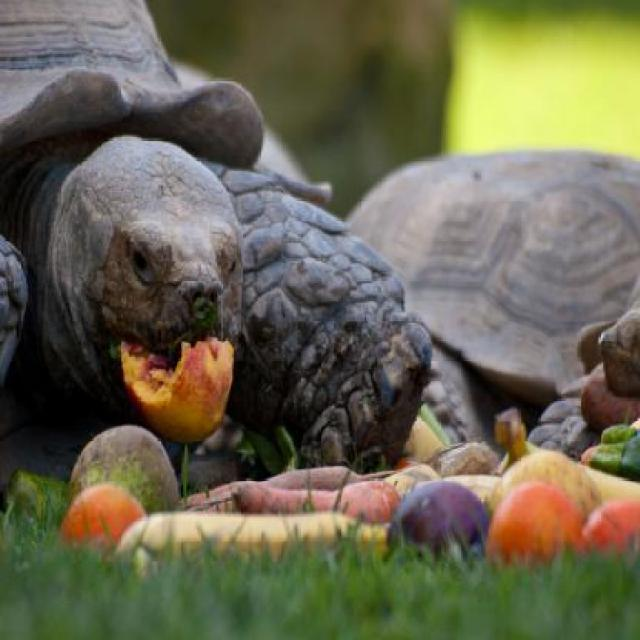Peach: (119, 336, 235, 444), (487, 448, 602, 524)
